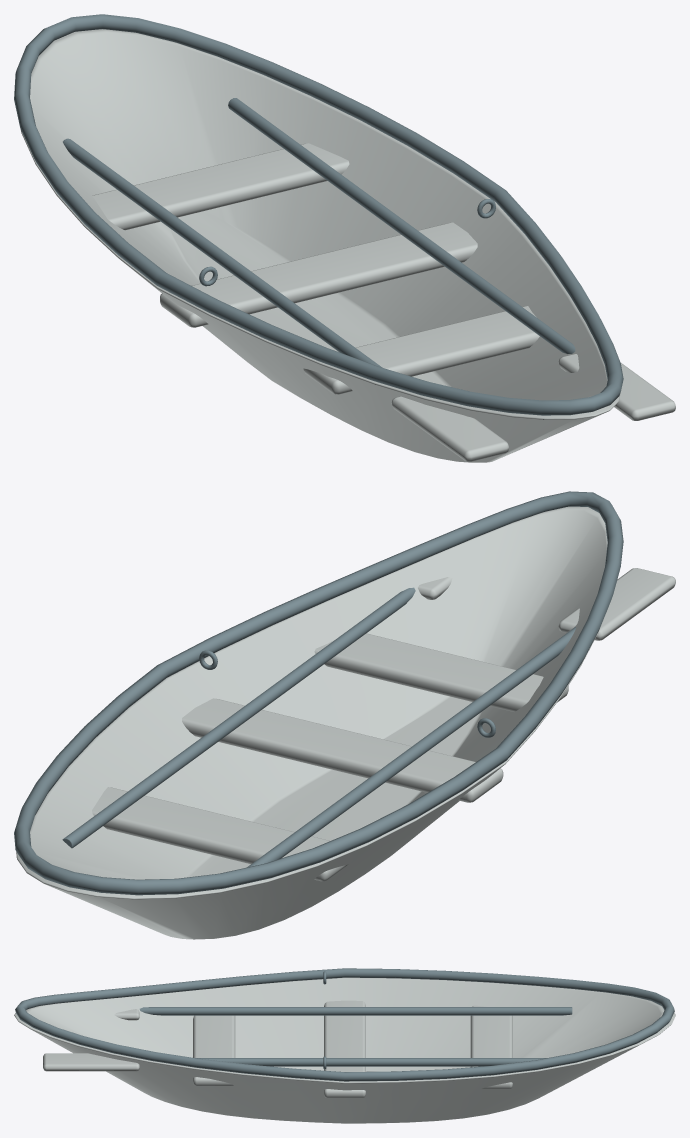
Rendered from rowing-boat.glb.
3 renders of one model, top to bottom at view 1: azimuth 30°, elevation 25°; view 2: azimuth 150°, elevation 25°; view 3: azimuth 270°, elevation 25°, orthographic. The views are drawn at different scales.
Parts seen in each view (by area): view 1: hull, gunwale, thwart_0, thwart_-0.73, thwart_0.65, oar_shaft_1, oar_shaft_0, oar_blade_0, oar_blade_1; view 2: hull, gunwale, thwart_0, thwart_0.65, thwart_-0.73, oar_shaft_1, oar_shaft_0, oar_blade_0; view 3: hull, gunwale, oar_shaft_0, thwart_0, oar_shaft_1, thwart_0.65, thwart_-0.73, oar_blade_1.
Part boxes in pixels (x1,y1,x2,y2): hull: [20, 29, 620, 462]; gunwale: [14, 14, 623, 415]; thwart_0: [160, 222, 477, 327]; thwart_-0.73: [92, 143, 349, 230]; thwart_0.65: [303, 306, 539, 394]; oar_shaft_1: [228, 98, 575, 353]; oar_shaft_0: [63, 138, 382, 367]; oar_blade_0: [391, 396, 508, 461]; oar_blade_1: [558, 354, 675, 420]; hull: [16, 506, 607, 939]; gunwale: [14, 491, 623, 895]; thwart_0: [182, 698, 503, 802]; thwart_0.65: [314, 633, 568, 711]; thwart_-0.73: [92, 787, 349, 881]; oar_shaft_1: [62, 587, 415, 848]; oar_shaft_0: [247, 627, 575, 867]; oar_blade_0: [558, 568, 675, 640]; hull: [14, 977, 675, 1123]; gunwale: [15, 968, 674, 1081]; oar_shaft_0: [139, 1007, 572, 1015]; thwart_0: [324, 1000, 365, 1097]; oar_shaft_1: [195, 1058, 546, 1066]; thwart_0.65: [193, 1015, 235, 1085]; thwart_-0.73: [470, 1005, 512, 1088]; oar_blade_1: [43, 1053, 139, 1071].
Bounding box in the file's own units: 1.27 × 0.5496 × 3.29.
